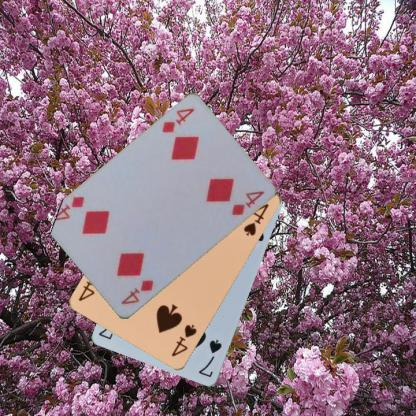4d: (159, 106, 196, 136), (118, 277, 155, 306)
4s: (169, 322, 198, 358)
7s: (196, 337, 223, 379)
